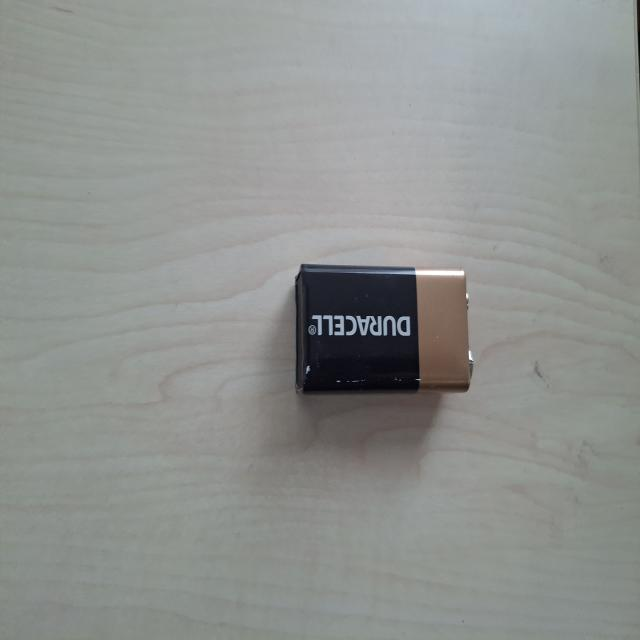9V: (197, 224, 299, 461)
